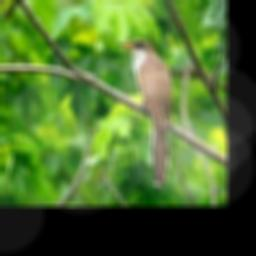Cuckoo: (118, 39, 173, 187)
